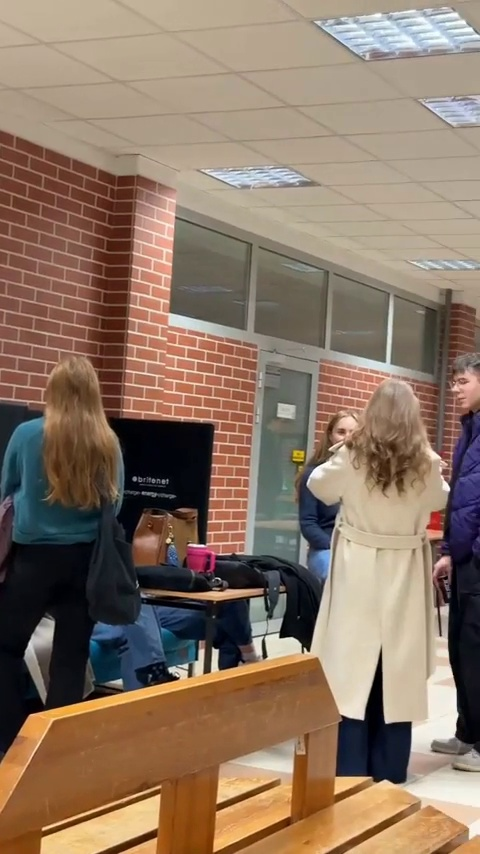no vest: (4, 351, 129, 721), (317, 376, 437, 733), (439, 352, 480, 730)
